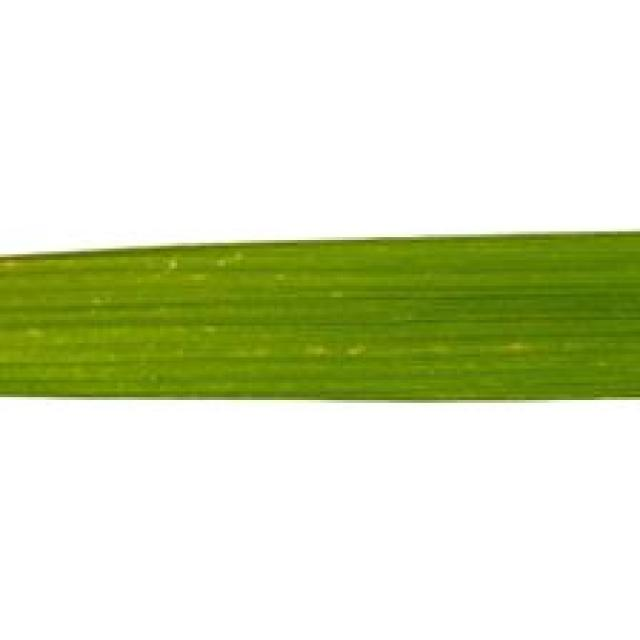Rice___Healthy_Rice_Plant: (2, 232, 637, 398)
